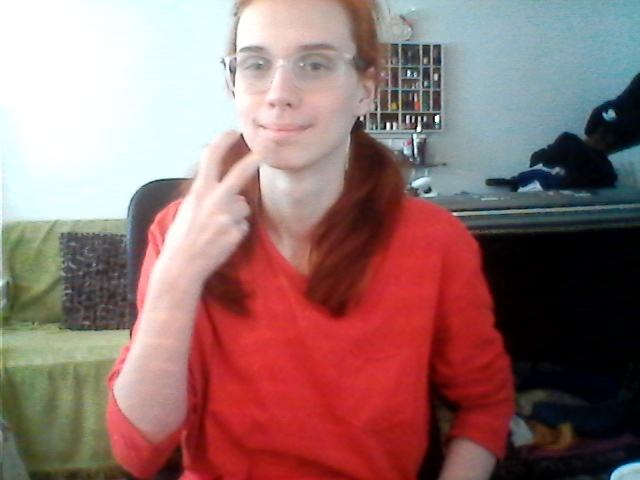usmievat: (154, 114, 349, 254)
